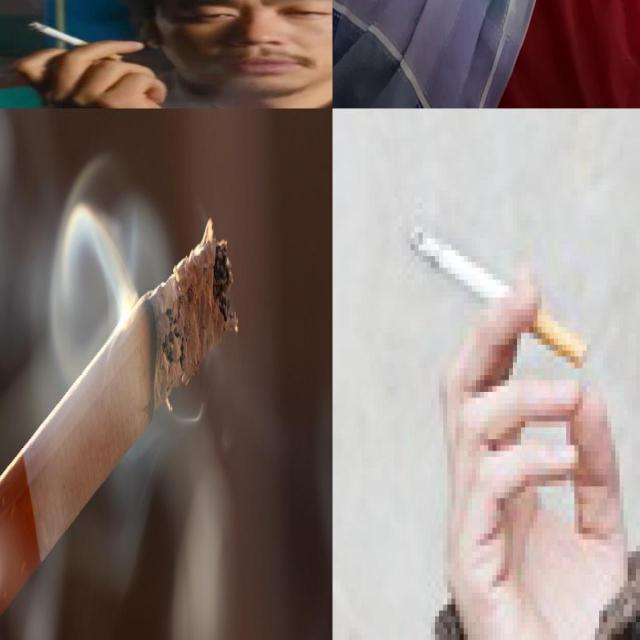smoking: (0, 221, 240, 621), (402, 215, 587, 362), (27, 22, 123, 62)
